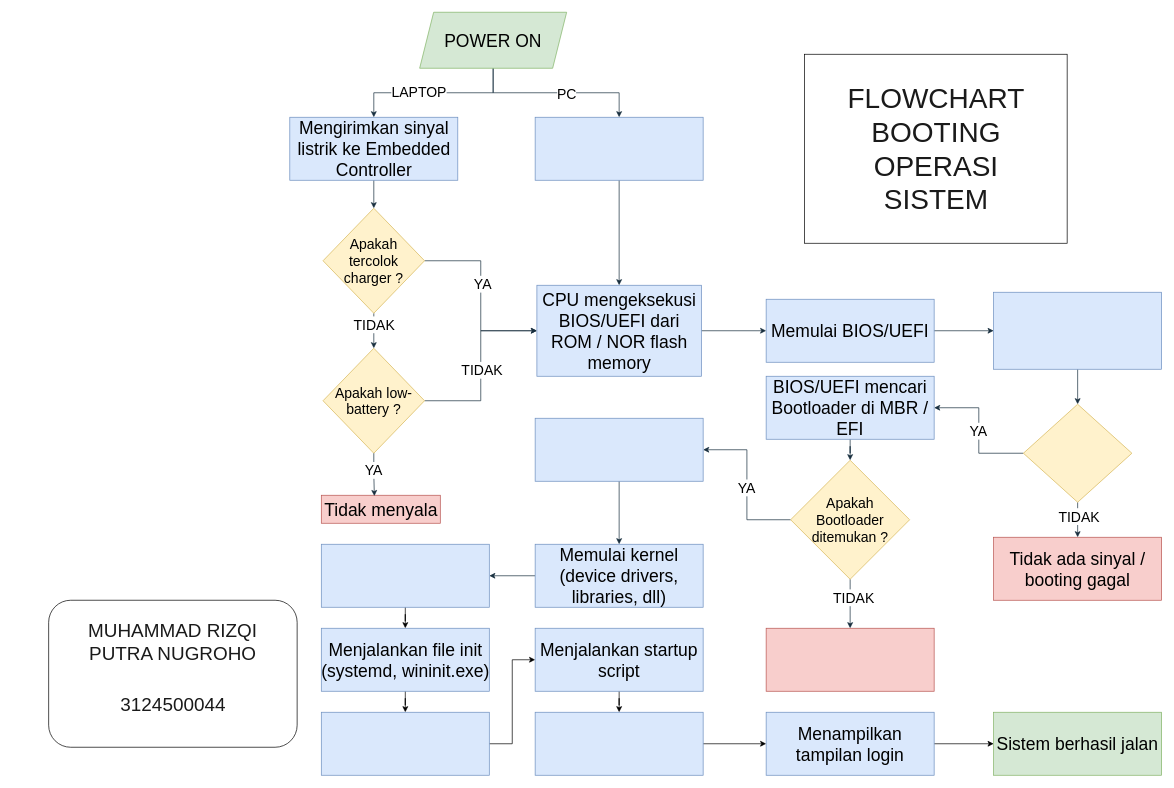
The diagram is 1174 pixels wide and 788 high, and some of its shapes have lost their labels. Here are the shapes that lost their labels. From the top down, the box of each, then its label:
(534, 117, 703, 180): Mengirimkan sinyal listrik ke PSU
(993, 292, 1162, 369): BIOS/UEFI melakukan POST untuk mengecek hardware
(534, 418, 703, 481): RAM dipesan untuk bootloader
(1023, 404, 1132, 502): Apakah hardware lengkap ?
(321, 544, 489, 607): RAM dipesan untuk kernel
(765, 628, 934, 691): Bootable tidak ditemukan
(321, 712, 489, 775): Menjalankan file .target
(534, 712, 703, 775): Merender tampilan GUI / CLI
